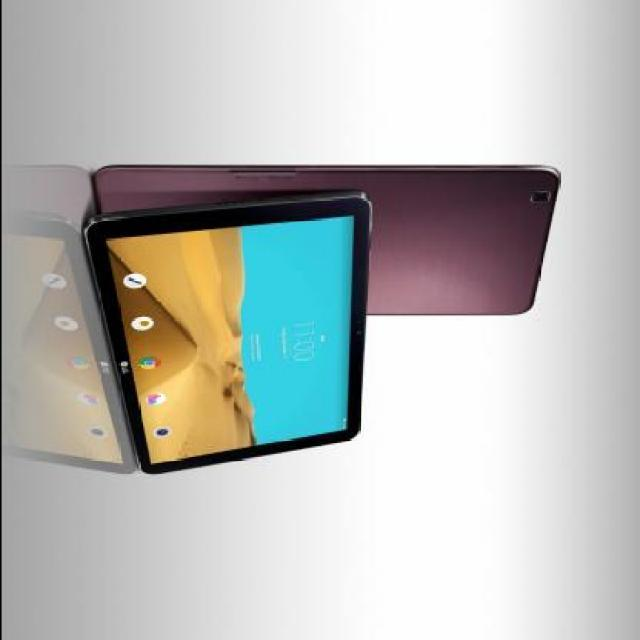phone: (81, 190, 370, 476), (110, 158, 559, 284)
